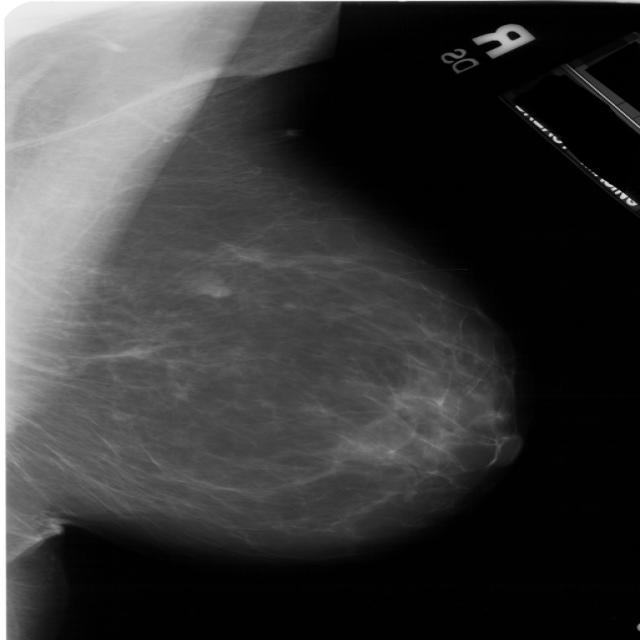tumour: (188, 274, 228, 298)
